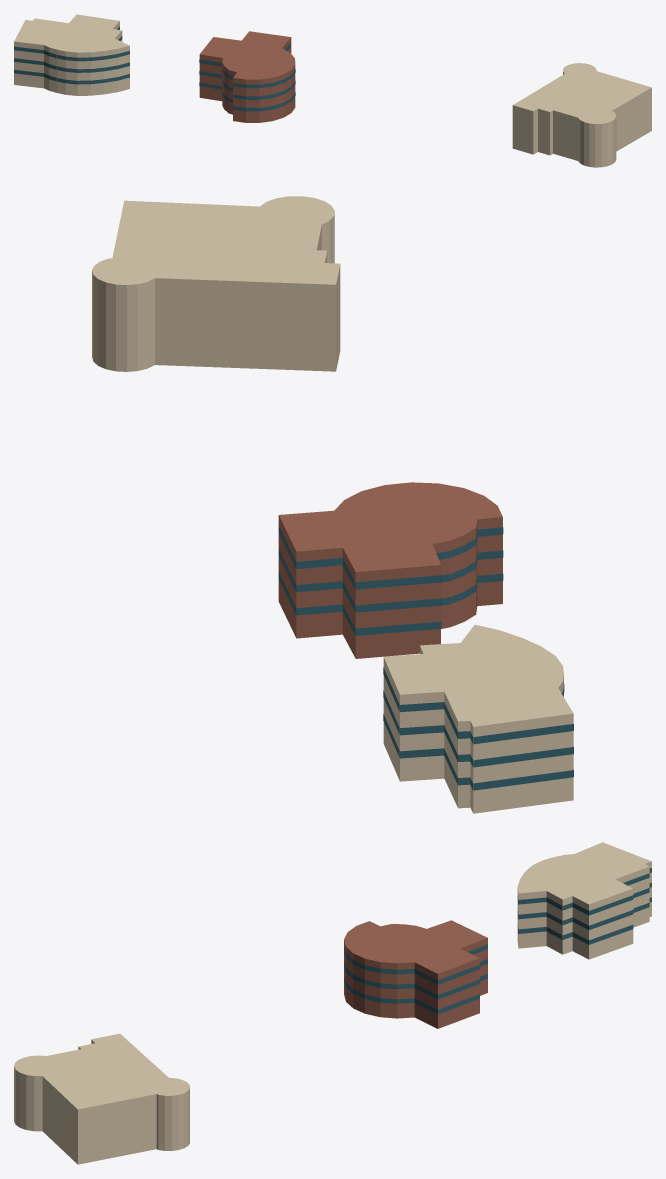
File: city_4_-5.glb
The picture shows the model from 3 angles, top to bottom: view 1: azimuth 30°, elevation 25°; view 2: azimuth 150°, elevation 25°; view 3: azimuth 270°, elevation 25°; orthographic projection. The views are drawn at different scales.
Parts seen in each view (by area): view 1: city_4_-5; view 2: city_4_-5; view 3: city_4_-5.
Boxes of the visible parts, x1,y1,x2,y2 form: city_4_-5: (14,14,651,167); city_4_-5: (92,196,573,813); city_4_-5: (14,842,651,1164).
Size of the model in its own units: 156 by 15 by 157.
